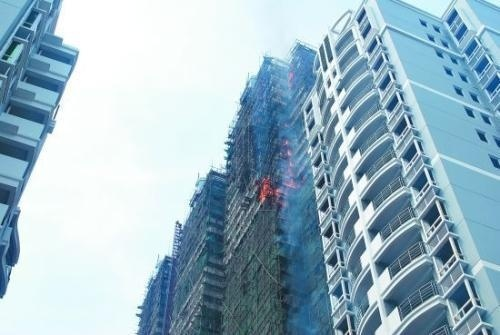fire: (255, 176, 285, 203), (282, 136, 294, 157)
